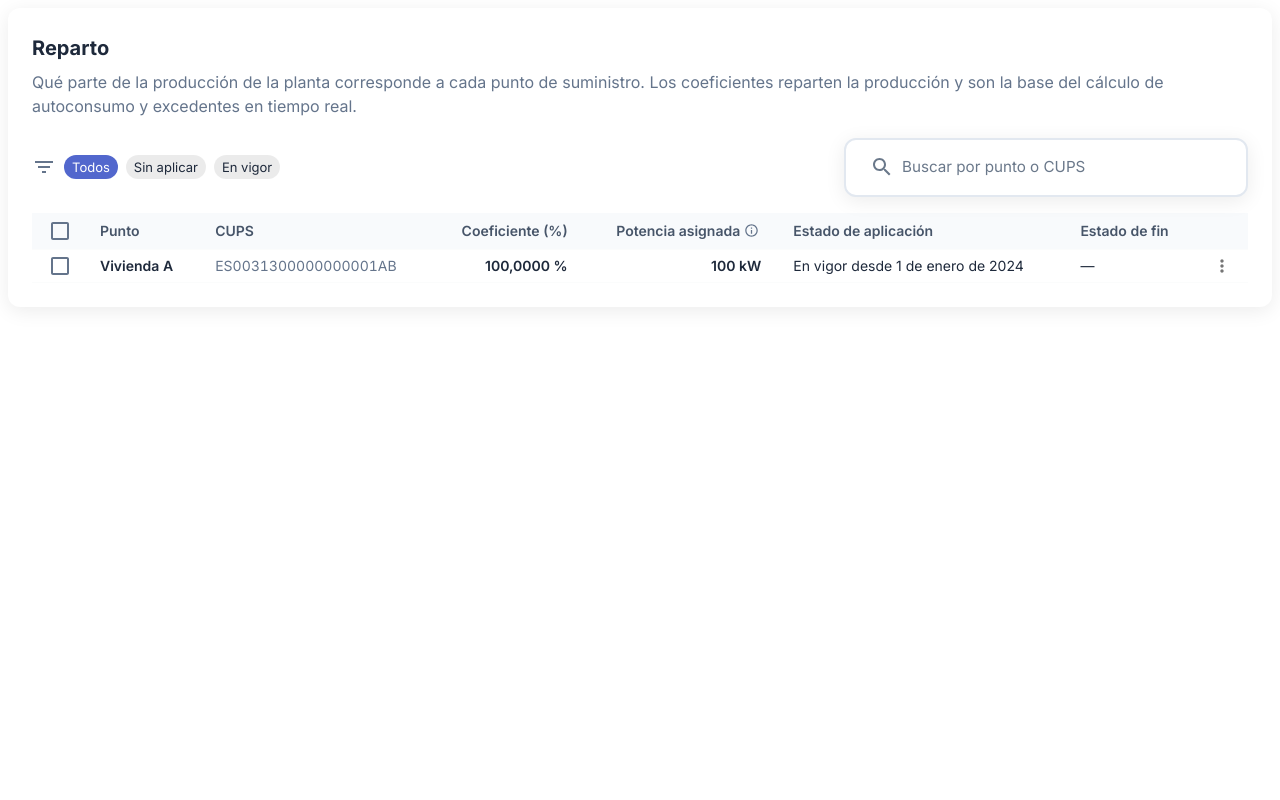
Test: CoefficientHistoryDrawer — reachable from every agreement status › UI-AGR-007 marks the agreement it was opened from rather than linking back to the same page
Click the button named "Más acciones" at (1222, 266), box [1212,256,1232,276]
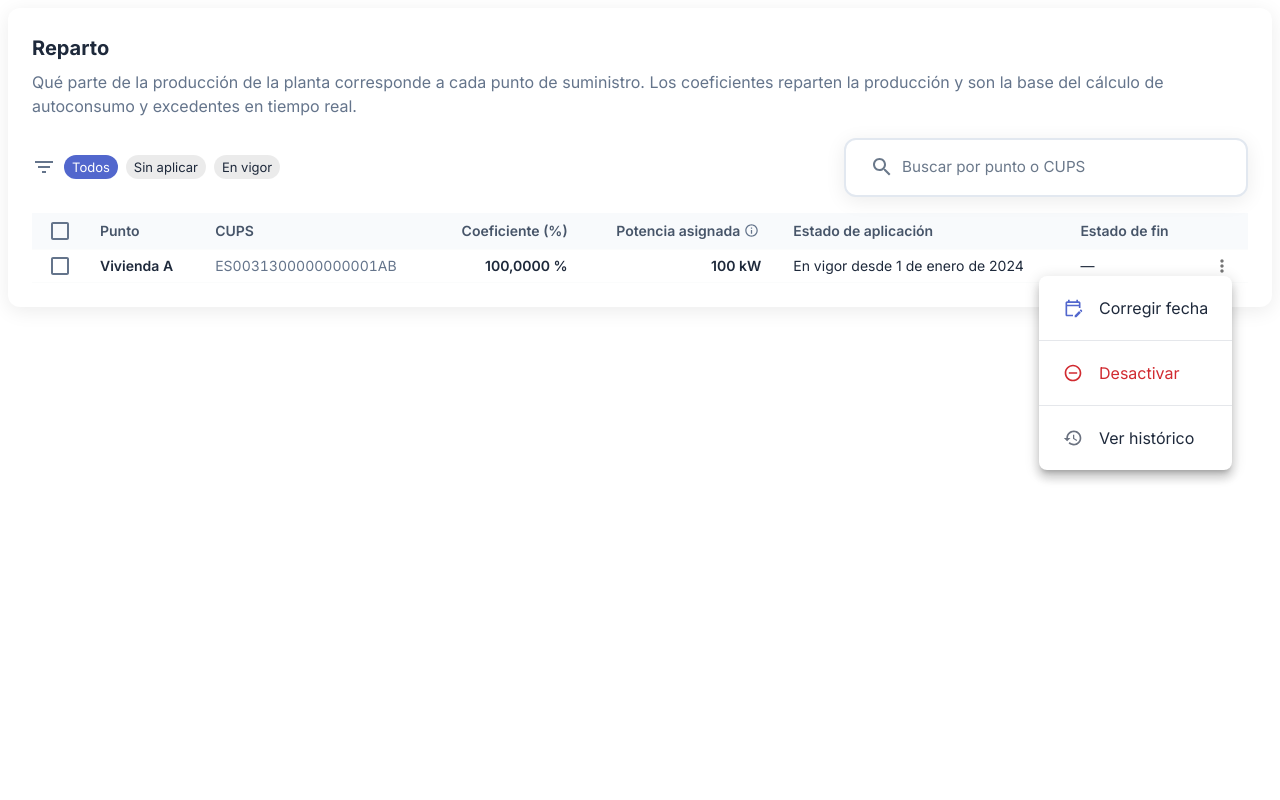
Click the menu item "Ver histórico" at (1129, 438), box [1063,428,1194,448]
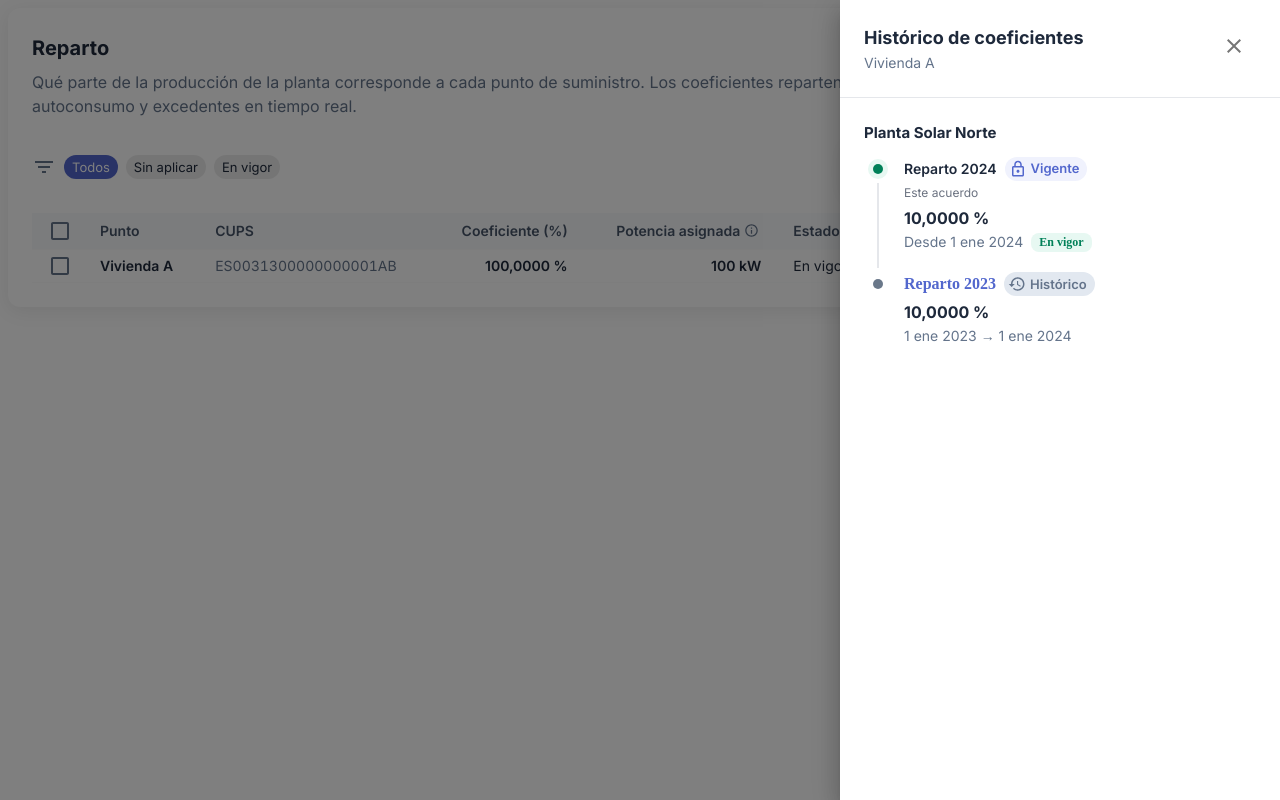
Result: the text "Este acuerdo" is shown at [904,184,978,200]
Result: the link "Reparto 2023" is shown at [904,275,996,293]
